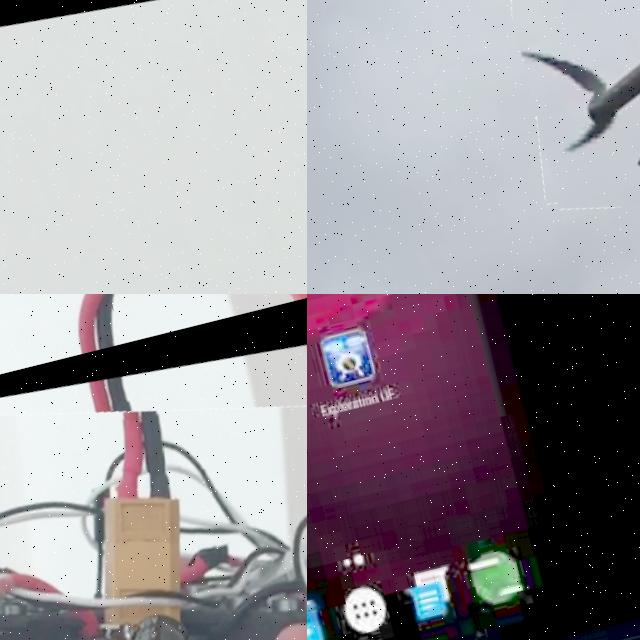drone: (0, 295, 307, 640), (0, 0, 307, 294), (468, 0, 640, 221)
